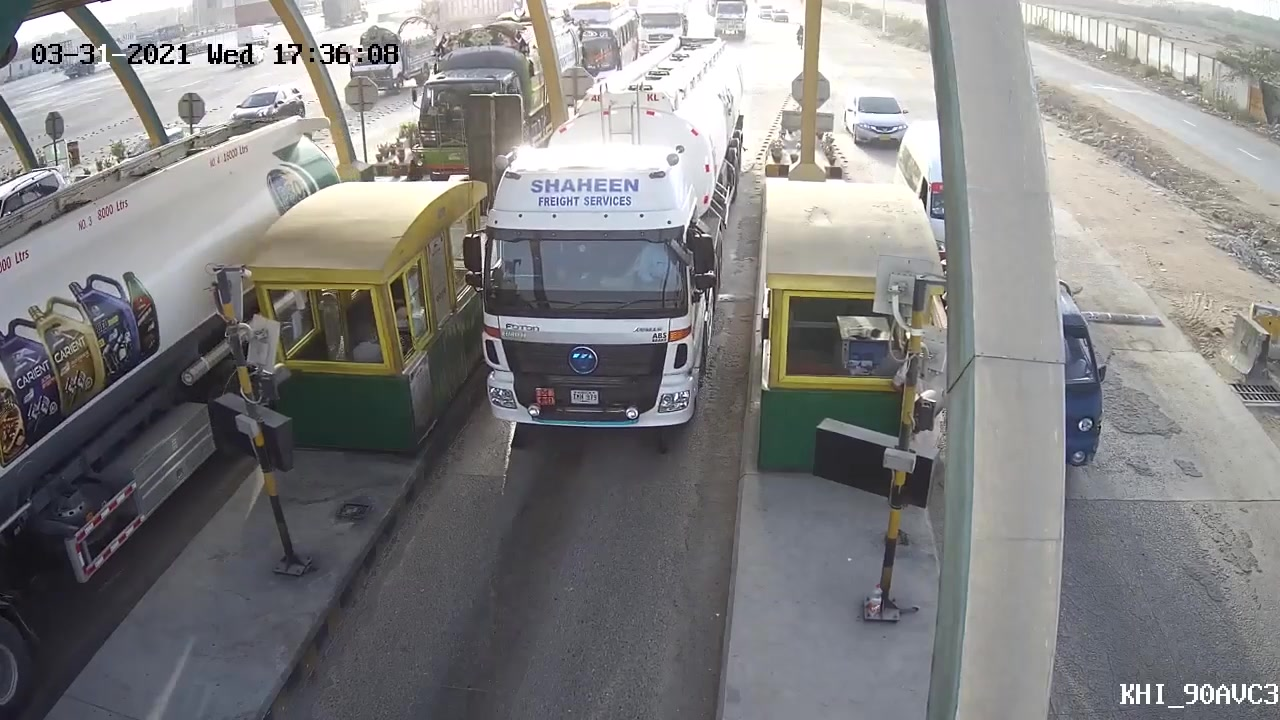F5: (435, 109, 748, 486)
